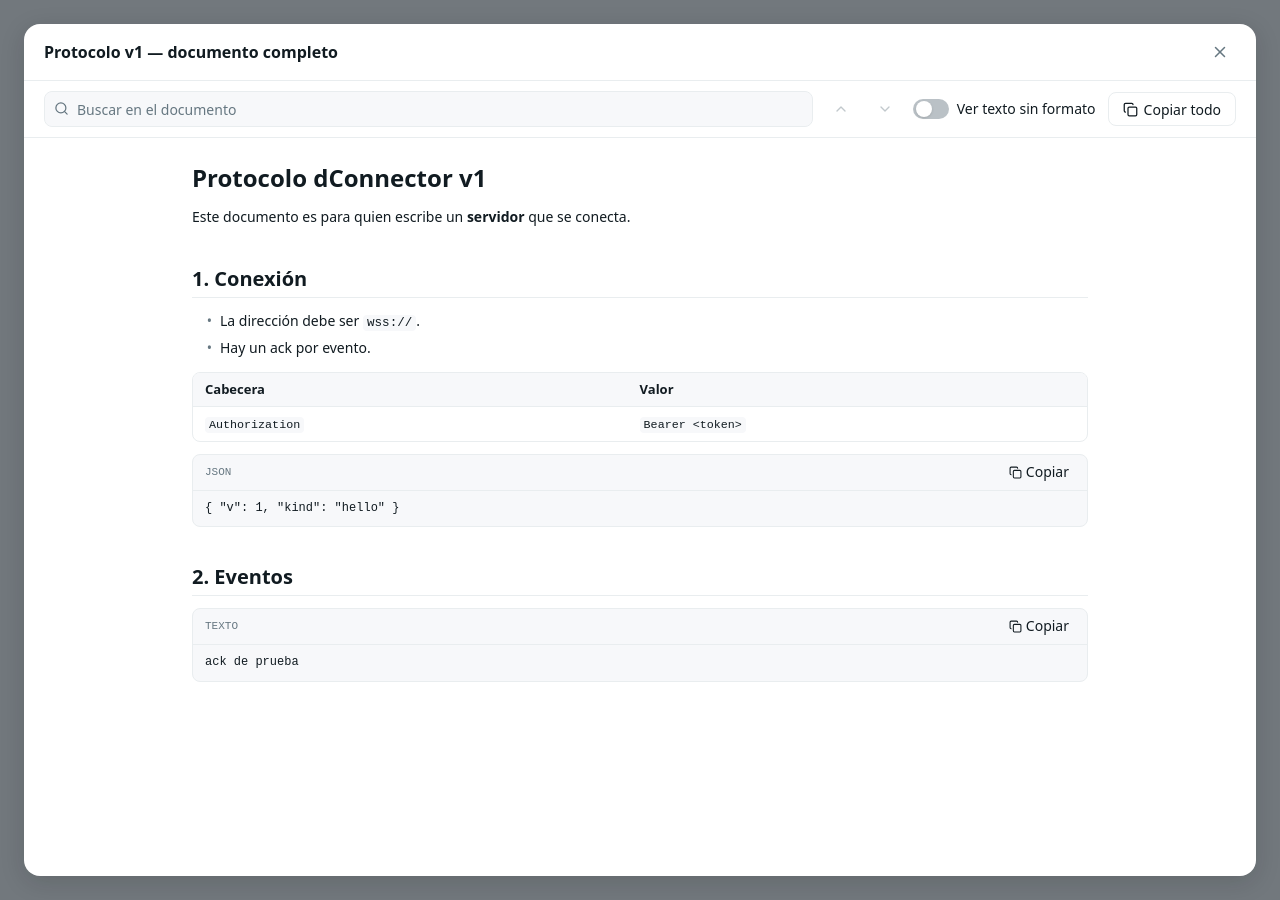
Test: diálogo del protocolo › la búsqueda también resalta en el texto sin formato
expect the heading "Protocolo dConnector v1" is shown: met, box [192,161,486,194]
Click the switch named "Ver texto sin formato" at (931, 109), box [913,99,949,119]
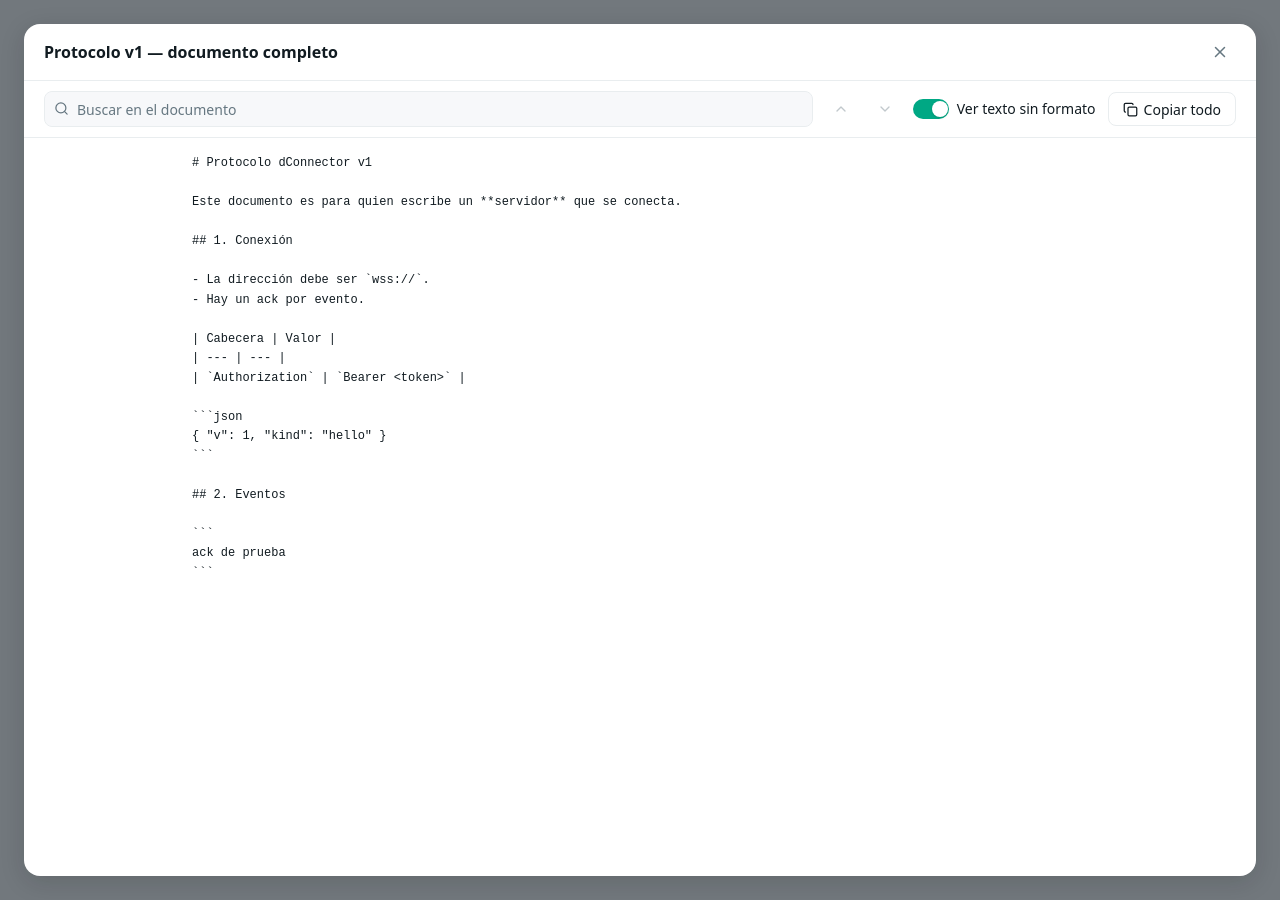
Type "hello" into the search field labelled "Buscar en el documento" at (428, 109), box [44,91,813,127]
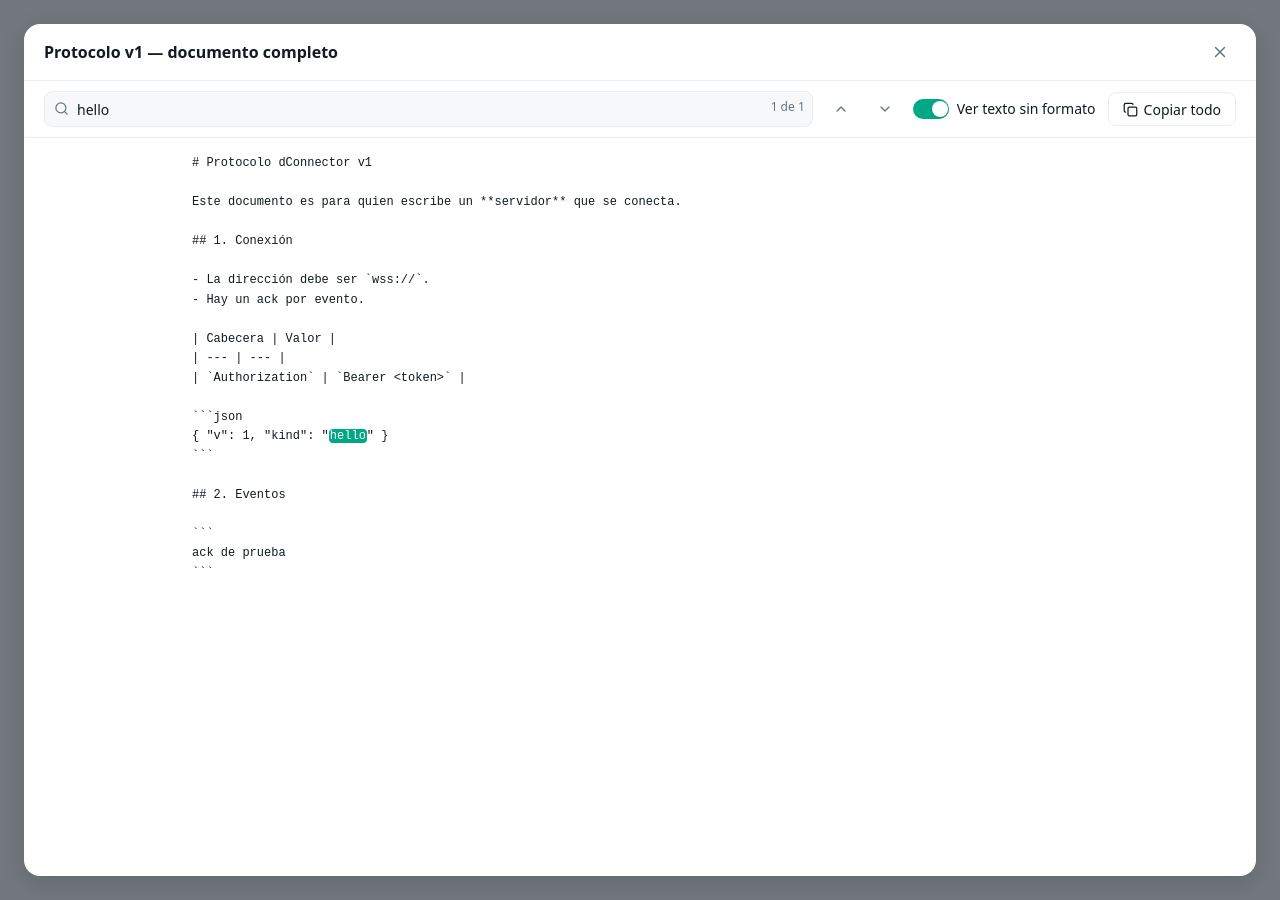
expect the text with test id "md-count" reads "1 de 1": met, box [771,98,805,115]
